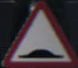Speed Breaker ahead: (9, 6, 65, 61)
